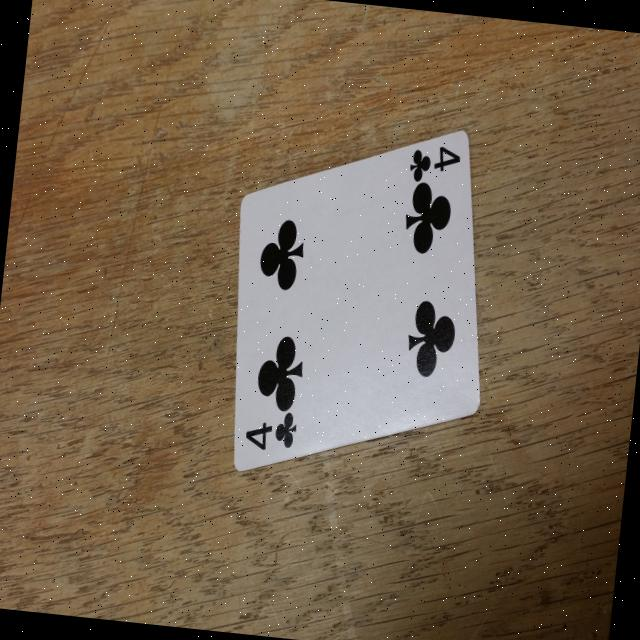4c: (236, 391, 306, 471), (400, 125, 472, 194)
